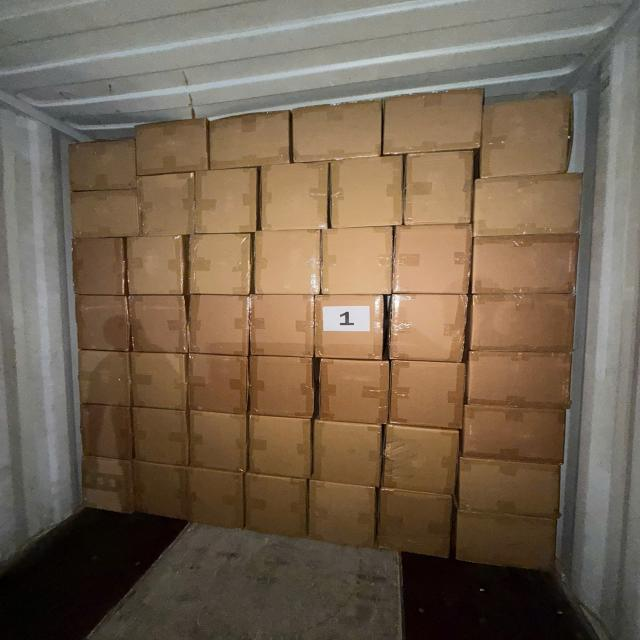Carton: (475, 94, 577, 178), (470, 169, 585, 235), (452, 505, 558, 576), (470, 231, 582, 296), (471, 296, 580, 356), (384, 90, 484, 155), (456, 458, 562, 519), (463, 404, 569, 462), (466, 347, 571, 405), (377, 484, 452, 565), (392, 224, 473, 296), (294, 102, 384, 164), (388, 296, 467, 366), (385, 426, 459, 500), (330, 157, 404, 231), (389, 358, 465, 428), (403, 154, 472, 228), (322, 227, 394, 297), (258, 163, 328, 233), (318, 360, 391, 427), (208, 110, 290, 169), (308, 478, 377, 548), (315, 419, 384, 488), (316, 296, 388, 362), (254, 231, 324, 297), (250, 412, 314, 479), (248, 297, 314, 361), (245, 471, 309, 536), (196, 171, 259, 237), (248, 355, 314, 418), (138, 119, 212, 175), (189, 235, 254, 298), (188, 352, 251, 414), (188, 296, 250, 358), (185, 466, 244, 531), (190, 409, 249, 472), (71, 136, 139, 190), (127, 237, 187, 298), (142, 173, 197, 239), (128, 296, 189, 355), (69, 190, 140, 239), (131, 459, 187, 521), (132, 408, 189, 468), (81, 457, 137, 518), (130, 349, 187, 408), (73, 292, 130, 351), (75, 347, 130, 405), (80, 405, 135, 462), (72, 238, 126, 296)
